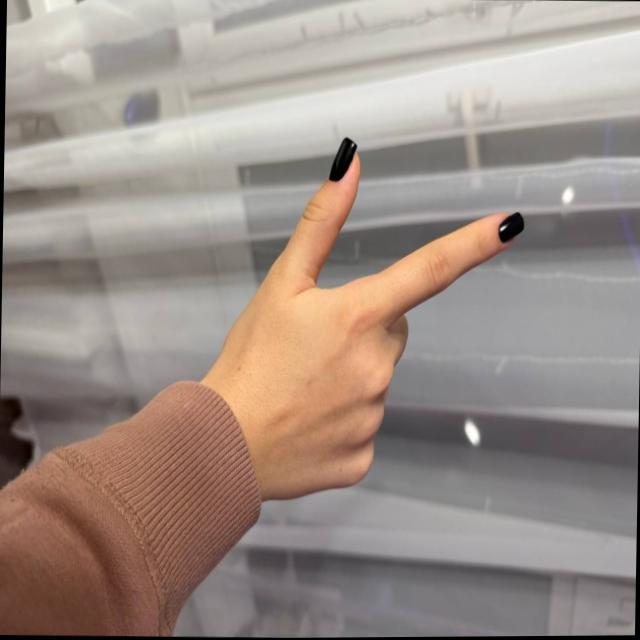-: (222, 93, 550, 536)
